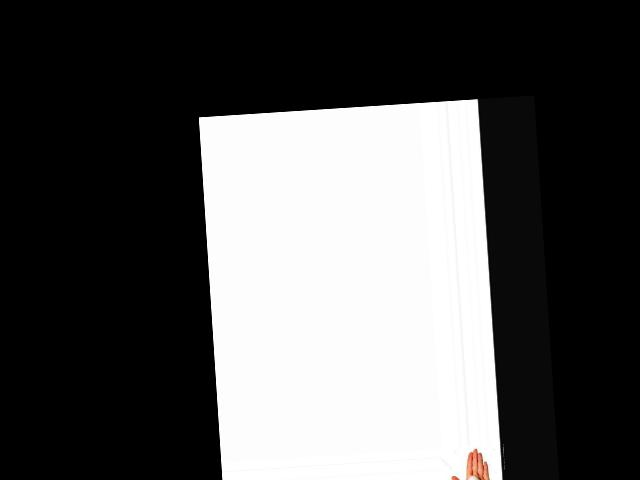egg: (466, 475, 482, 480)
